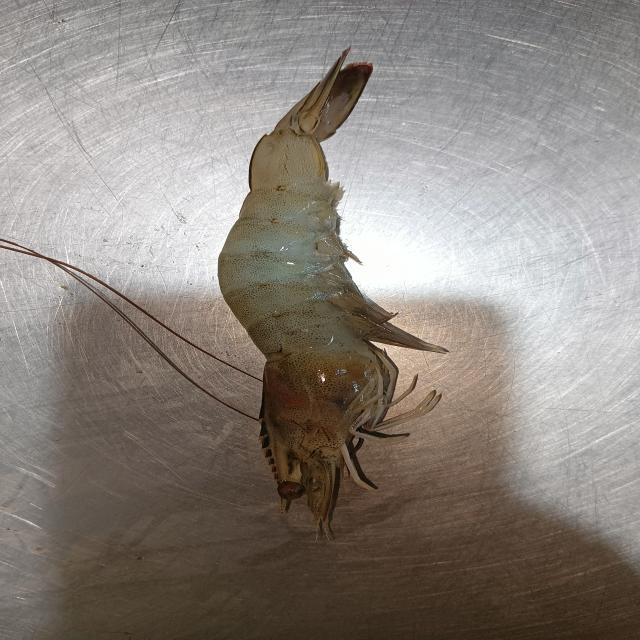shrimp: (218, 49, 445, 527)
